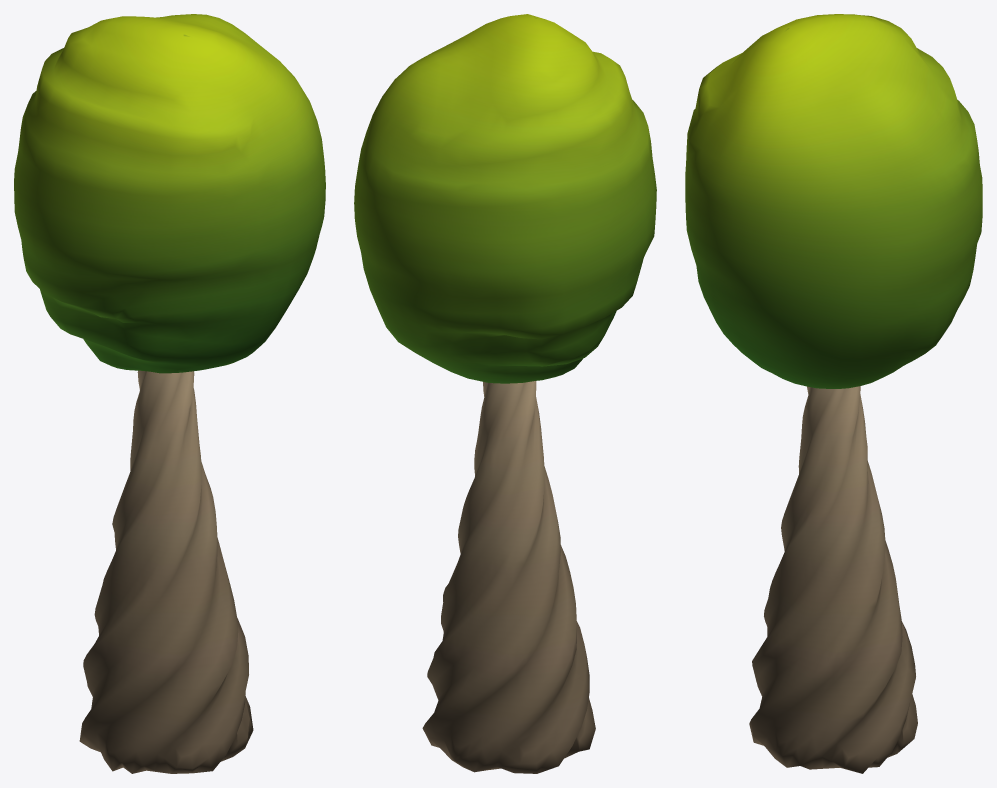
File: tree_02.fbx
3 views of the same model, side by side, from view 1: azimuth 30°, elevation 25°; view 2: azimuth 150°, elevation 25°; view 3: azimuth 270°, elevation 25° (orthographic). The views are drawn at different scales.
Visible parts, largest first — view 1: bulk_tree; view 2: bulk_tree; view 3: bulk_tree.
Boxes of the visible parts, x1=… form: bulk_tree: x1=14, y1=14, x2=325, y2=773; bulk_tree: x1=354, y1=14, x2=656, y2=773; bulk_tree: x1=685, y1=14, x2=982, y2=773.
Size of the model in its own units: 10.07 by 26.36 by 9.99.
Materials: 1 (1 with a texture image).
